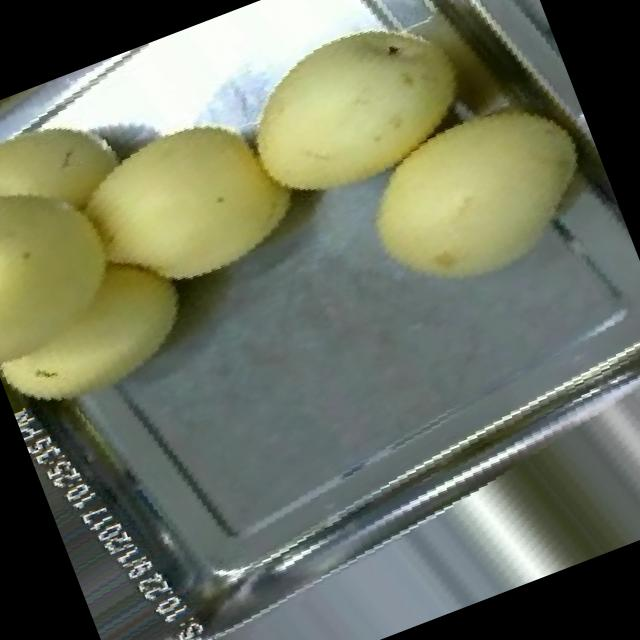Fruit: (311, 43, 638, 350), (0, 98, 236, 457), (41, 66, 342, 347), (199, 0, 518, 258)
